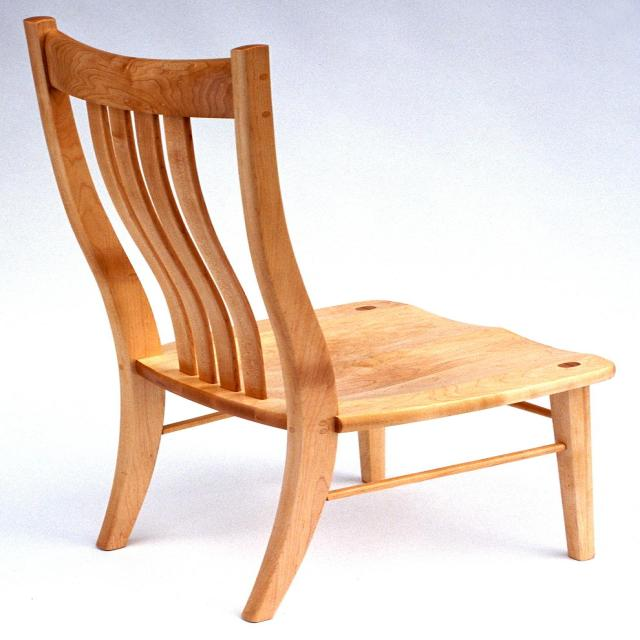chair: (21, 15, 616, 623)
